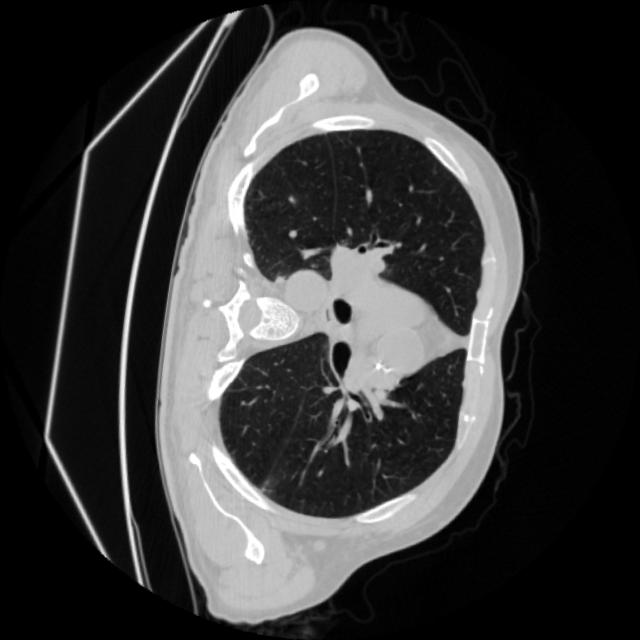nodule: (268, 269, 292, 294)
